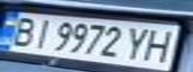2: (103, 22, 127, 60)
7: (84, 21, 109, 56)
9: (48, 18, 75, 53), (66, 20, 90, 55)
B: (3, 14, 42, 47)
H: (139, 26, 181, 63)
I: (27, 16, 57, 50)
Y: (121, 25, 157, 62)
